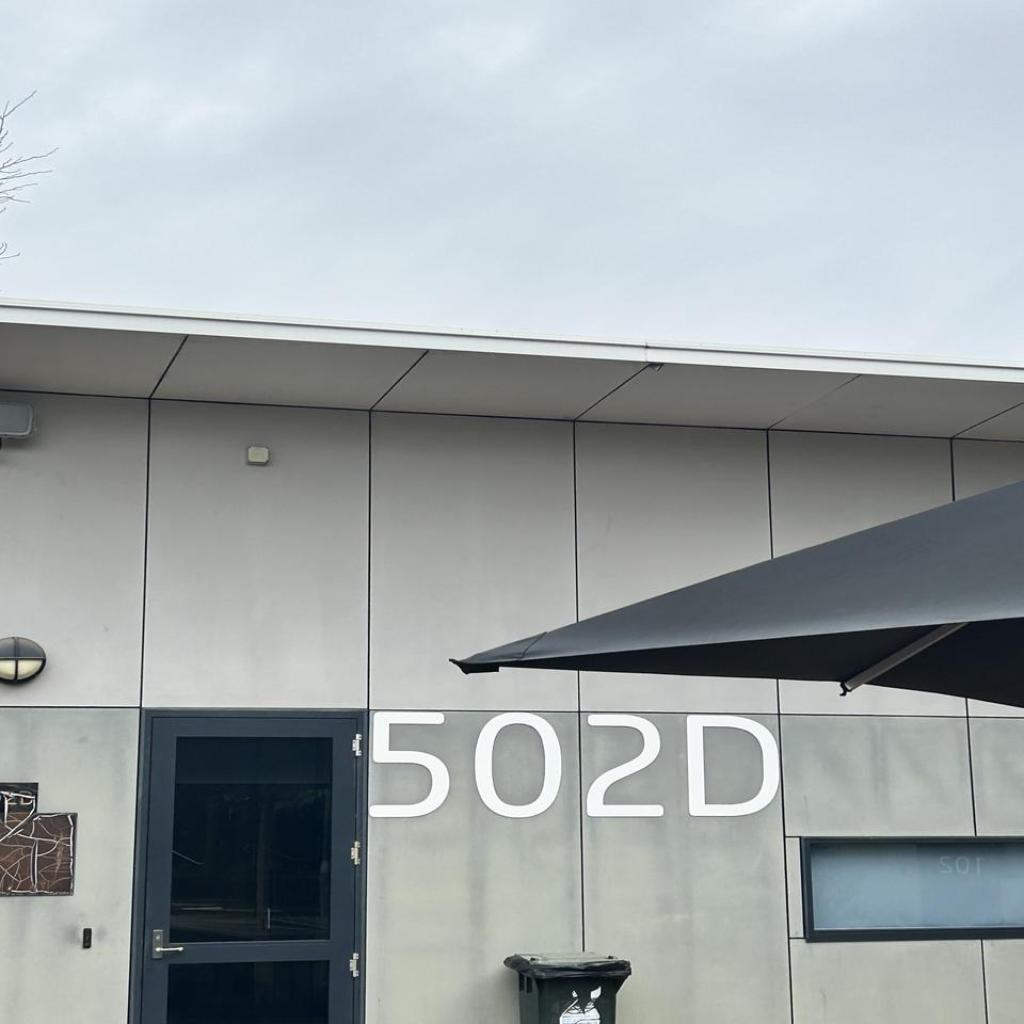BuildingCodes: (368, 706, 786, 822)
